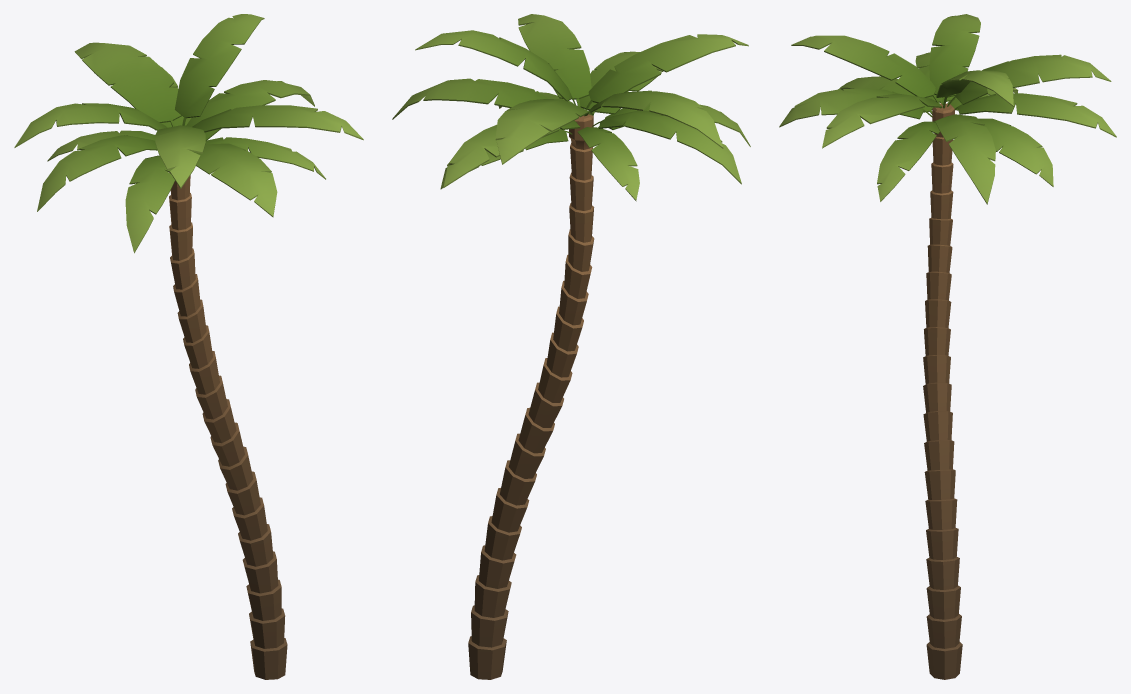
Rendered from PalmTree_02.fbx.
3 renders of one model, left to right at view 1: azimuth 30°, elevation 25°; view 2: azimuth 150°, elevation 25°; view 3: azimuth 270°, elevation 25°, orthographic. The views are drawn at different scales.
Visible parts, largest first — view 1: PalmTree_02_LOD0; view 2: PalmTree_02_LOD0; view 3: PalmTree_02_LOD0.
Part boxes in pixels (x1=…): PalmTree_02_LOD0: x1=14, y1=14, x2=363, y2=679; PalmTree_02_LOD0: x1=392, y1=14, x2=750, y2=679; PalmTree_02_LOD0: x1=779, y1=14, x2=1116, y2=679.
Size of what is drawn, in the model's own units: 2.6 by 5.09 by 2.62.
